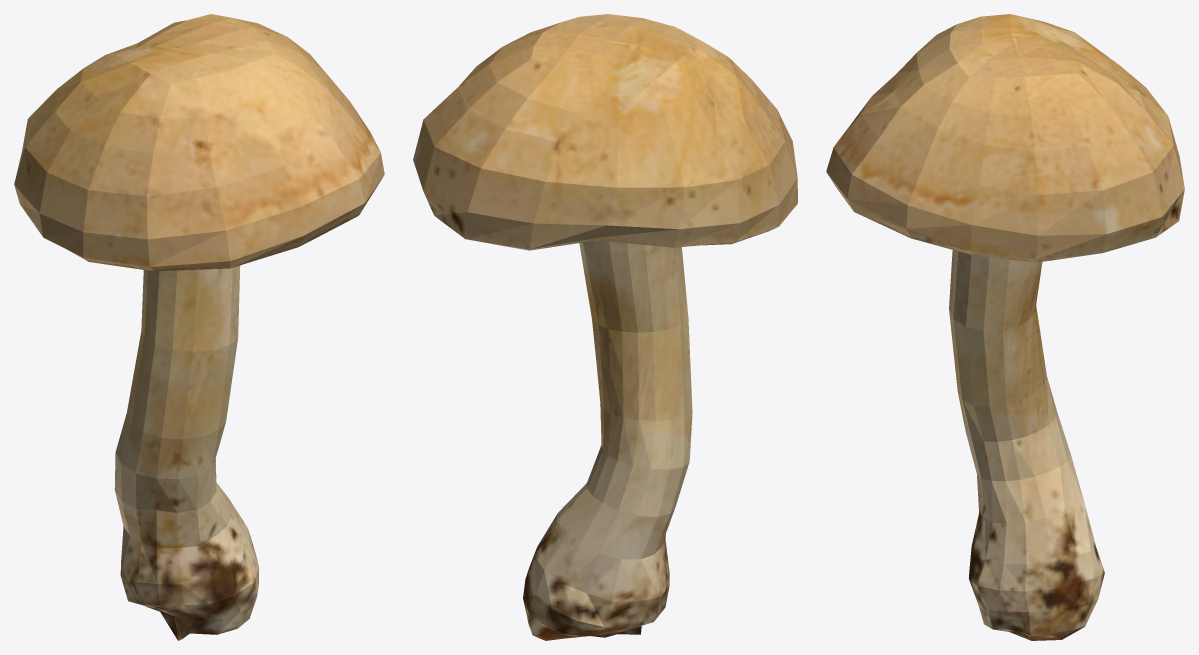
Rendered from P_Common_small.obj.
3 views of the same model, side by side, from view 1: azimuth 30°, elevation 25°; view 2: azimuth 150°, elevation 25°; view 3: azimuth 270°, elevation 25° (orthographic). The views are drawn at different scales.
Size of the model in its own units: 0.1245 by 0.2185 by 0.1229.
1 material, 1 textured.
